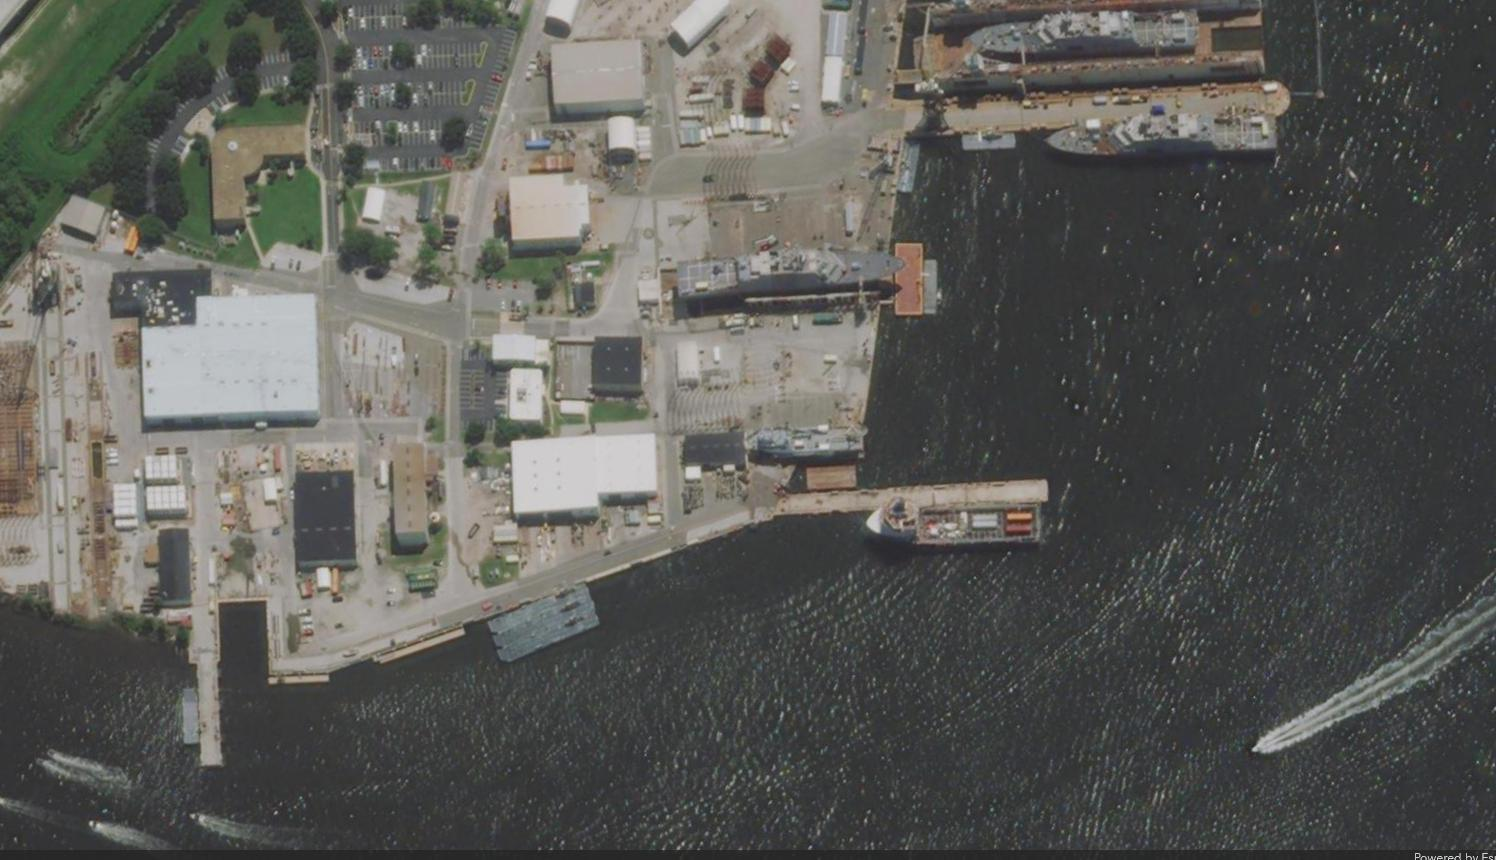patrol: (669, 241, 914, 314), (1039, 107, 1301, 159), (966, 6, 1206, 62)
